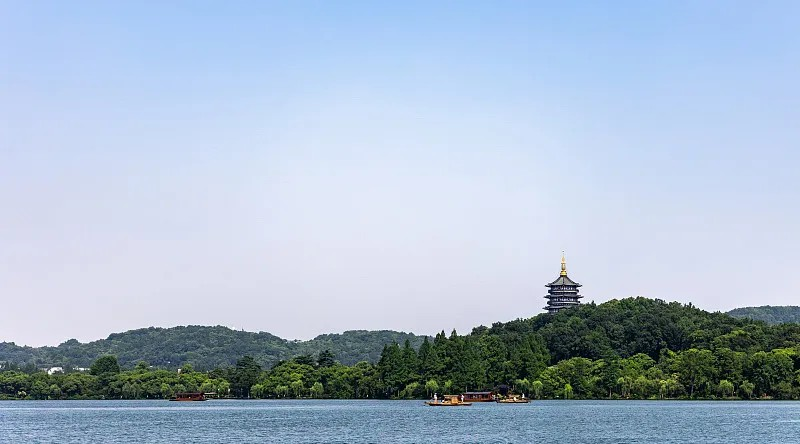Leifeng: (544, 251, 584, 317)
